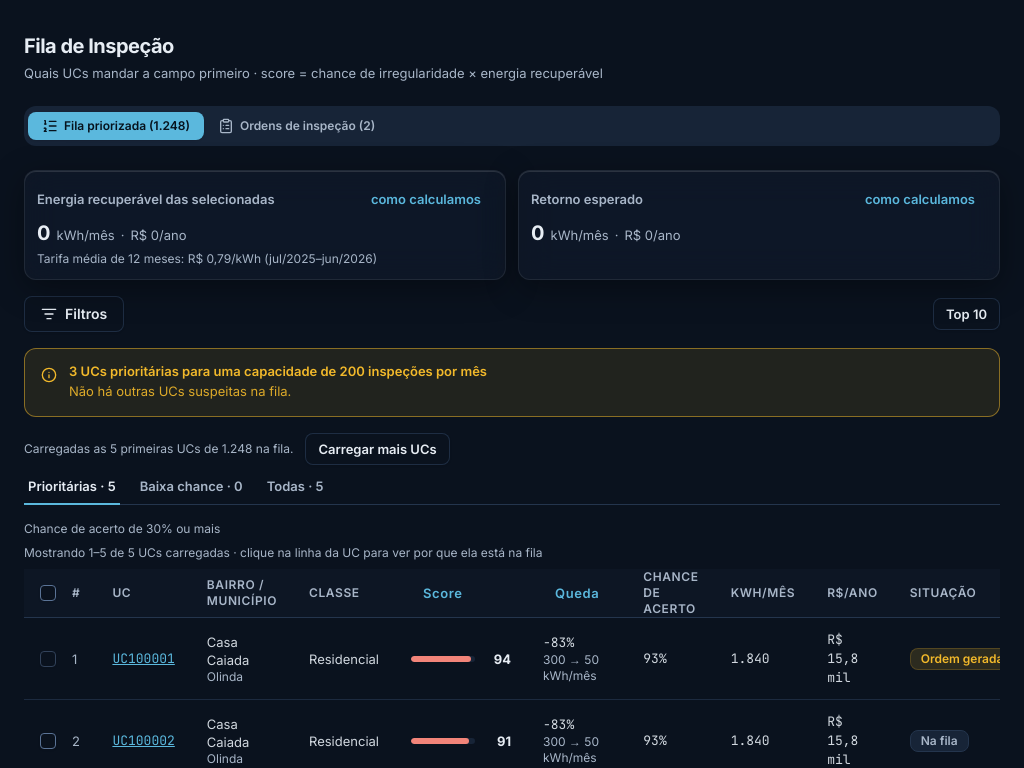
Test case: Fila de Inspeção › para o diretor, que só consulta, não mostra "Gerar" nem os botões de ação das ordens
Click the checkbox named "Selecionar UC100002": (48, 740) [40,732,56,748]
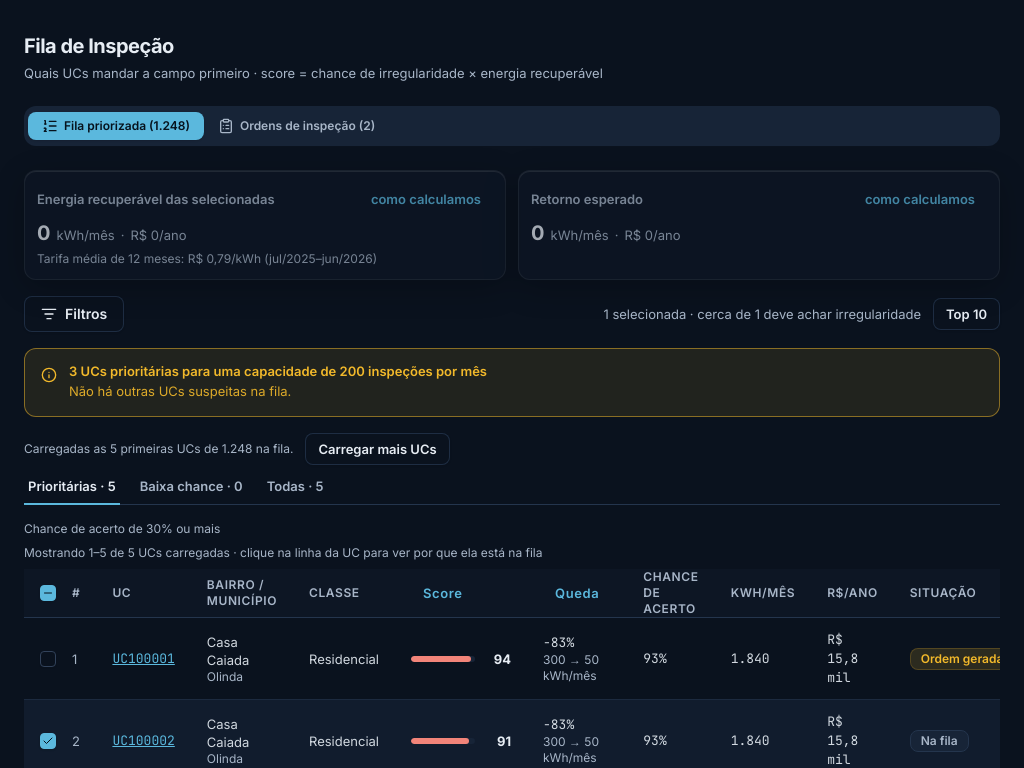
Expected: the button with aria-label "Selecionar top" is shown, [933,298,1000,330]
Click the tab "Ordens de inspeção (2)": (297, 126) [204,112,389,140]
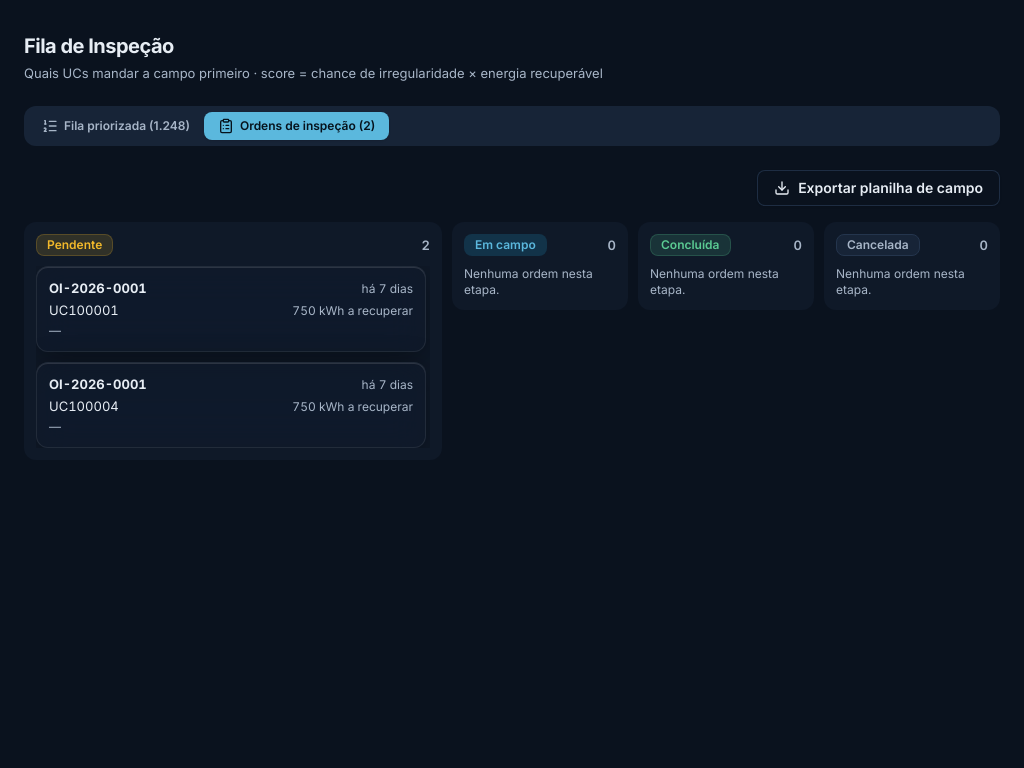
Expected: the button "Exportar planilha de campo" is shown, [757,170,1000,206]
